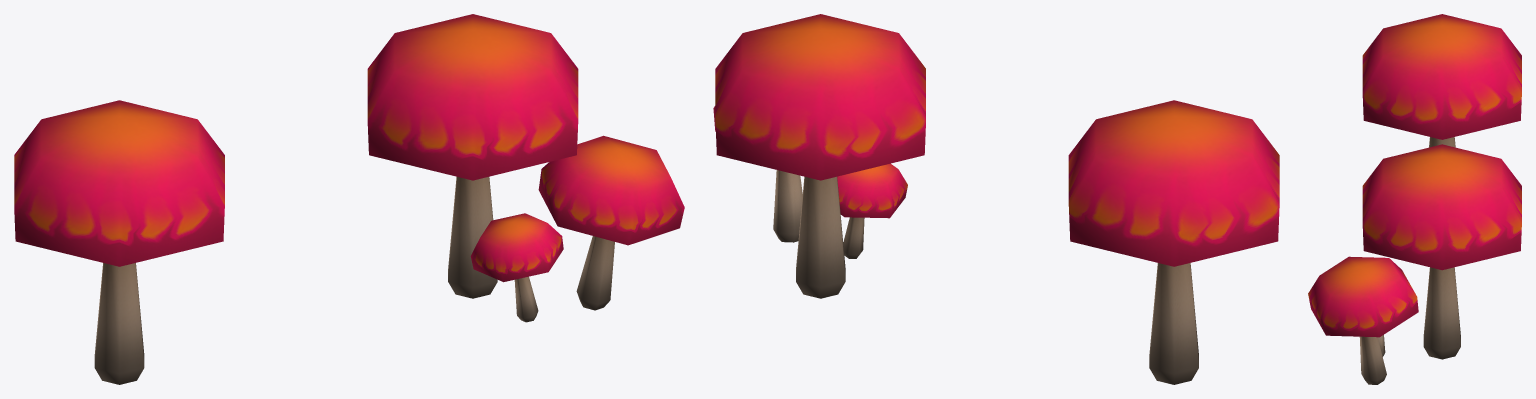
Rendered from Mushroom_04.FBX.
The picture shows the model from 3 angles, left to right: view 1: azimuth 30°, elevation 25°; view 2: azimuth 150°, elevation 25°; view 3: azimuth 270°, elevation 25°; orthographic projection. The views are drawn at different scales.
Visible parts, largest first — view 1: Mushroom 4_group, Mushroom 43_single; view 2: Mushroom 4_group, Mushroom 43_single; view 3: Mushroom 4_group, Mushroom 43_single.
Boxes of the visible parts, x1=… form: Mushroom 4_group: x1=367, y1=14, x2=684, y2=322; Mushroom 43_single: x1=14, y1=100, x2=224, y2=384; Mushroom 4_group: x1=713, y1=14, x2=925, y2=298; Mushroom 43_single: x1=1068, y1=100, x2=1279, y2=384; Mushroom 4_group: x1=1308, y1=144, x2=1521, y2=384; Mushroom 43_single: x1=1362, y1=14, x2=1521, y2=147.
Bounding box in the file's own units: 21.64 × 8.9 × 8.71.
1 material, 1 textured.
